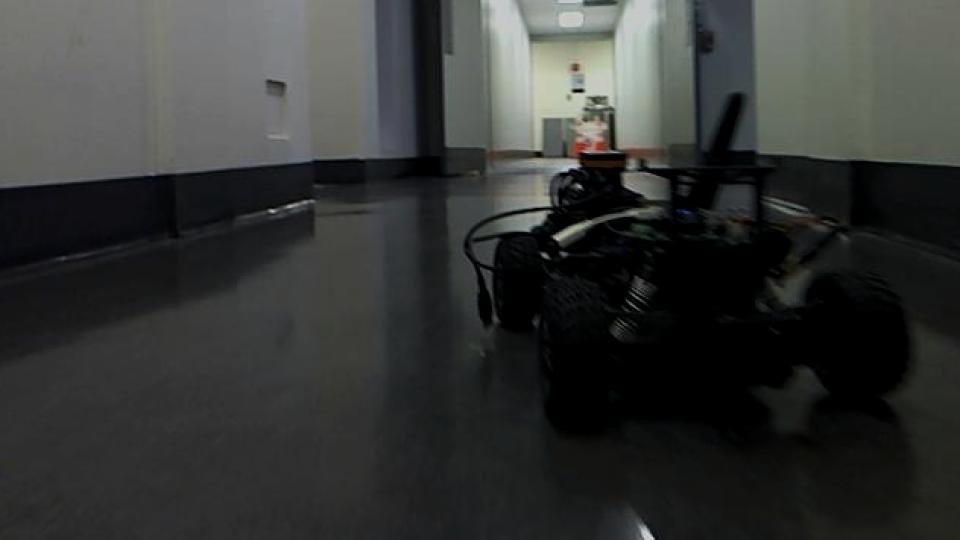car: (465, 153, 914, 448)
